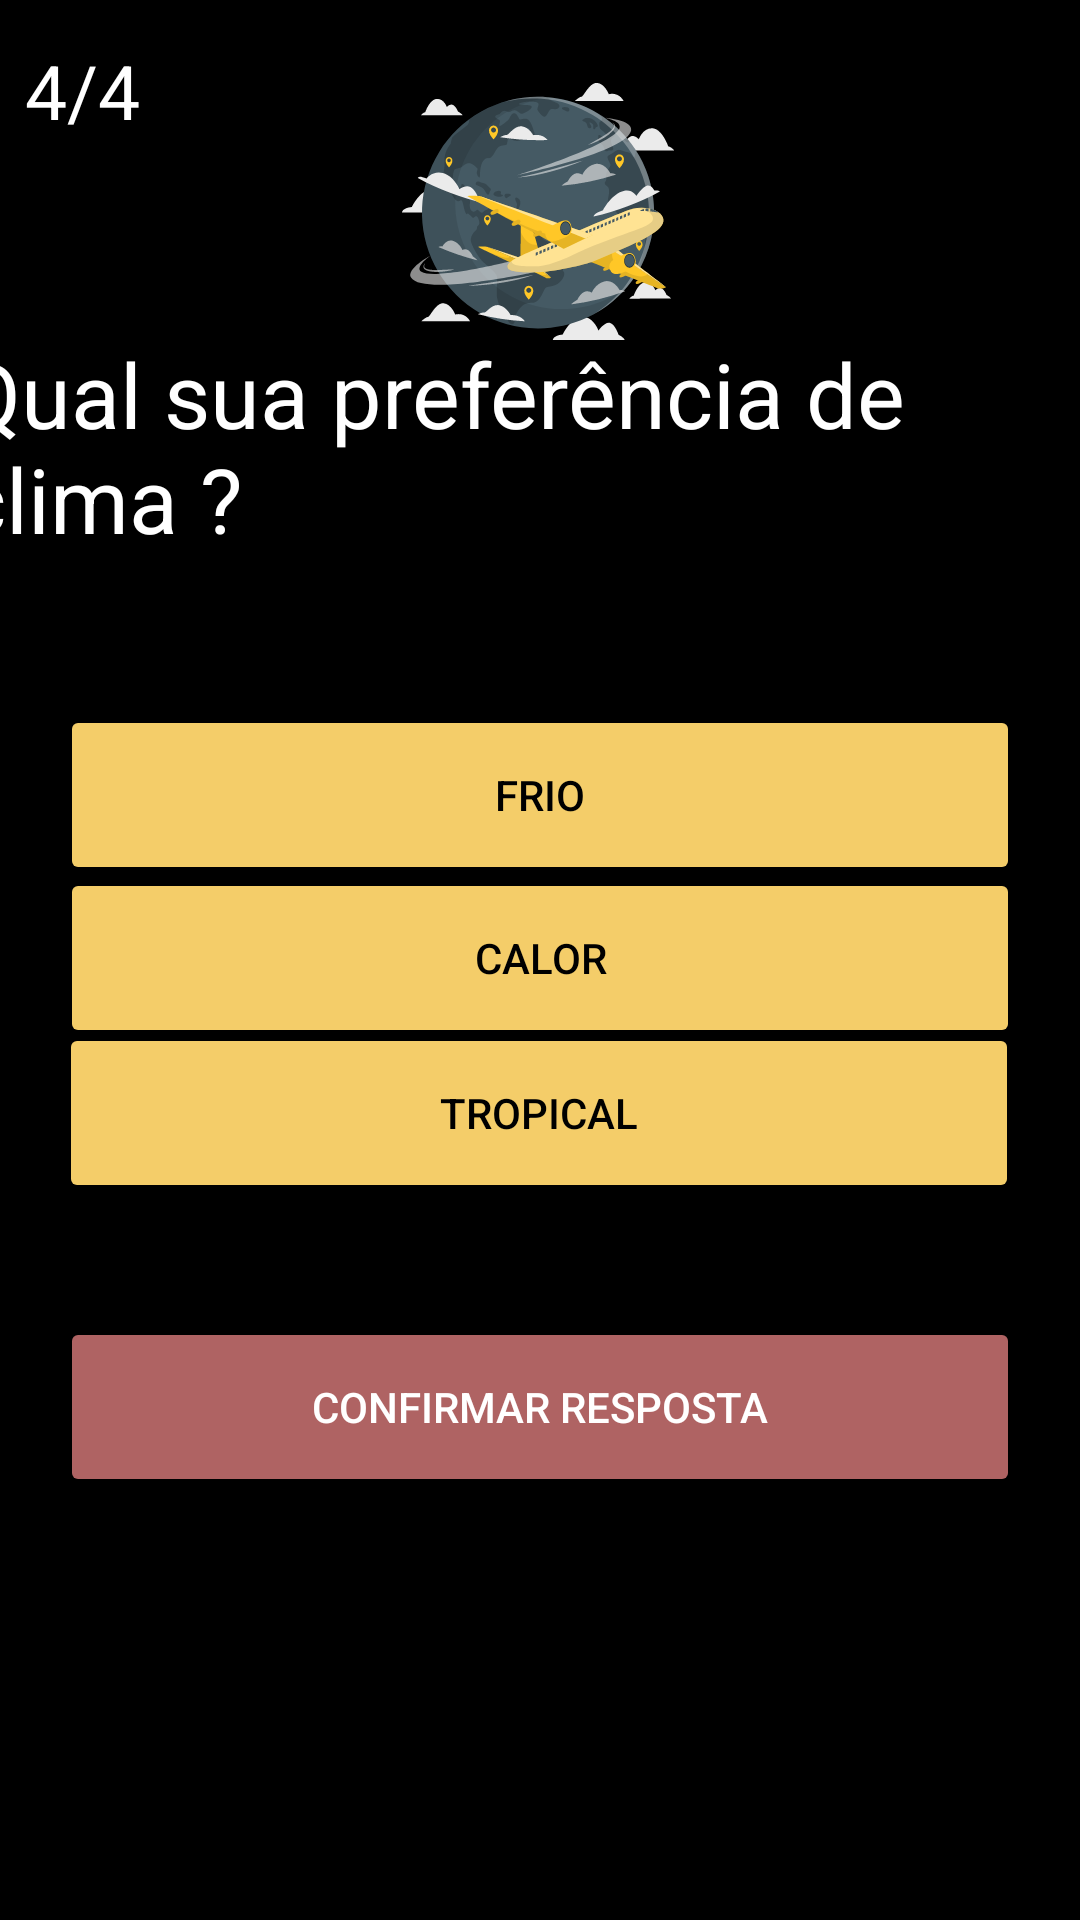

Icon click points for this 1080 × 1920 phone screenshot, format point (x, y):
cuateairplane: point (538, 211)
